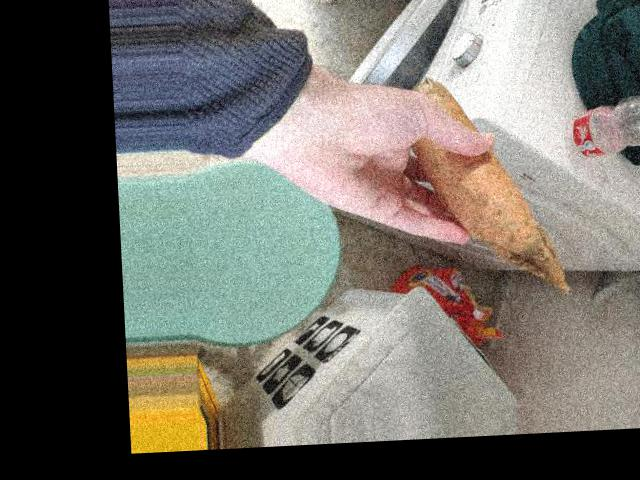sweet_potato: (416, 114, 540, 242)
